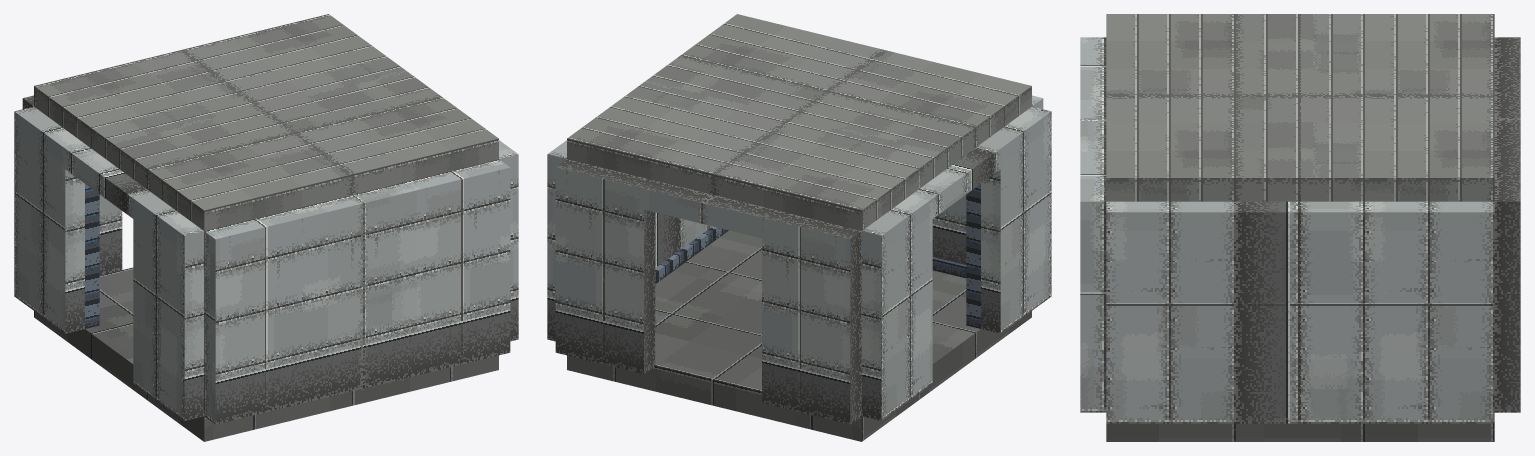
File: shell_corner_right.glb
3 renders of one model, left to right at view 1: azimuth 30°, elevation 25°; view 2: azimuth 150°, elevation 25°; view 3: azimuth 270°, elevation 25°, orthographic. The views are drawn at different scales.
Parts seen in each view (by area): view 1: shell_corner_right; view 2: shell_corner_right; view 3: shell_corner_right.
Boxes of the visible parts, x1=… form: shell_corner_right: x1=14, y1=14, x2=518, y2=441; shell_corner_right: x1=547, y1=14, x2=1051, y2=441; shell_corner_right: x1=1080, y1=14, x2=1520, y2=441.
Size of what is drawn, in the model's own units: 6.8 by 4.5 by 6.8.
18 materials, 18 textured.
